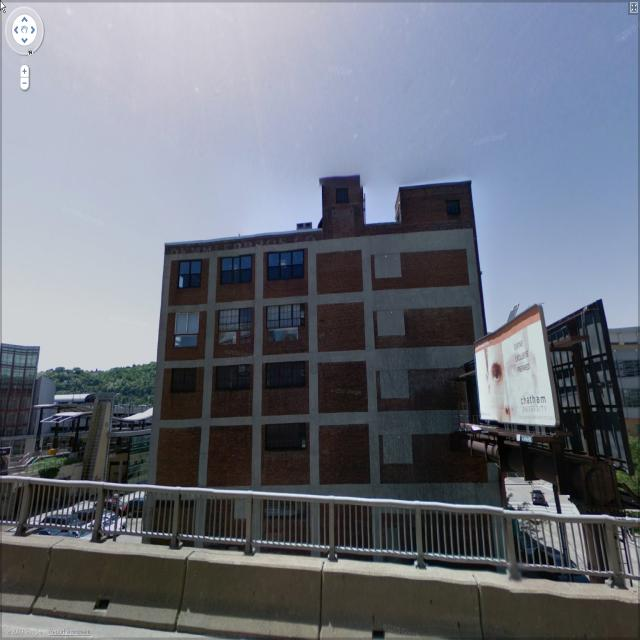b_1: (161, 168, 501, 540), (1, 336, 41, 435)
